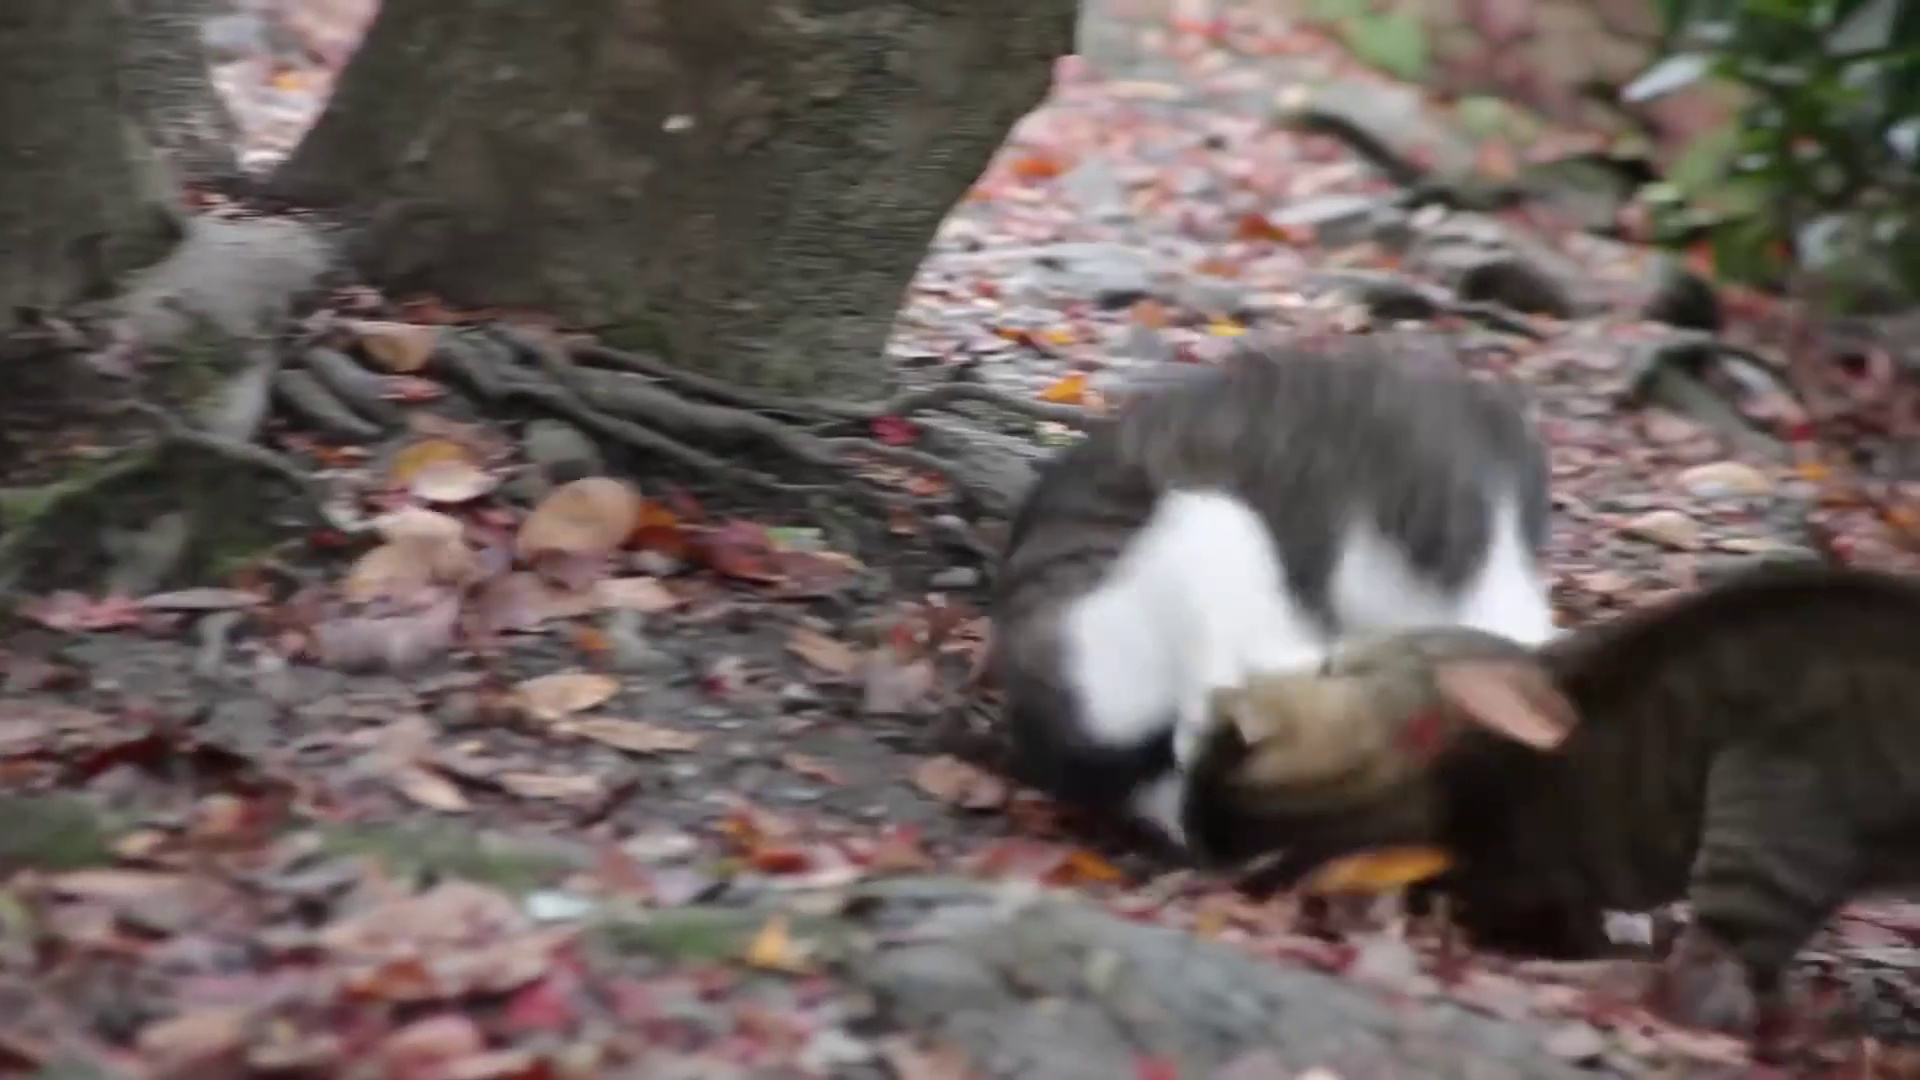black-white: (996, 339, 1569, 841)
pure black: (1445, 568, 1920, 1026)
